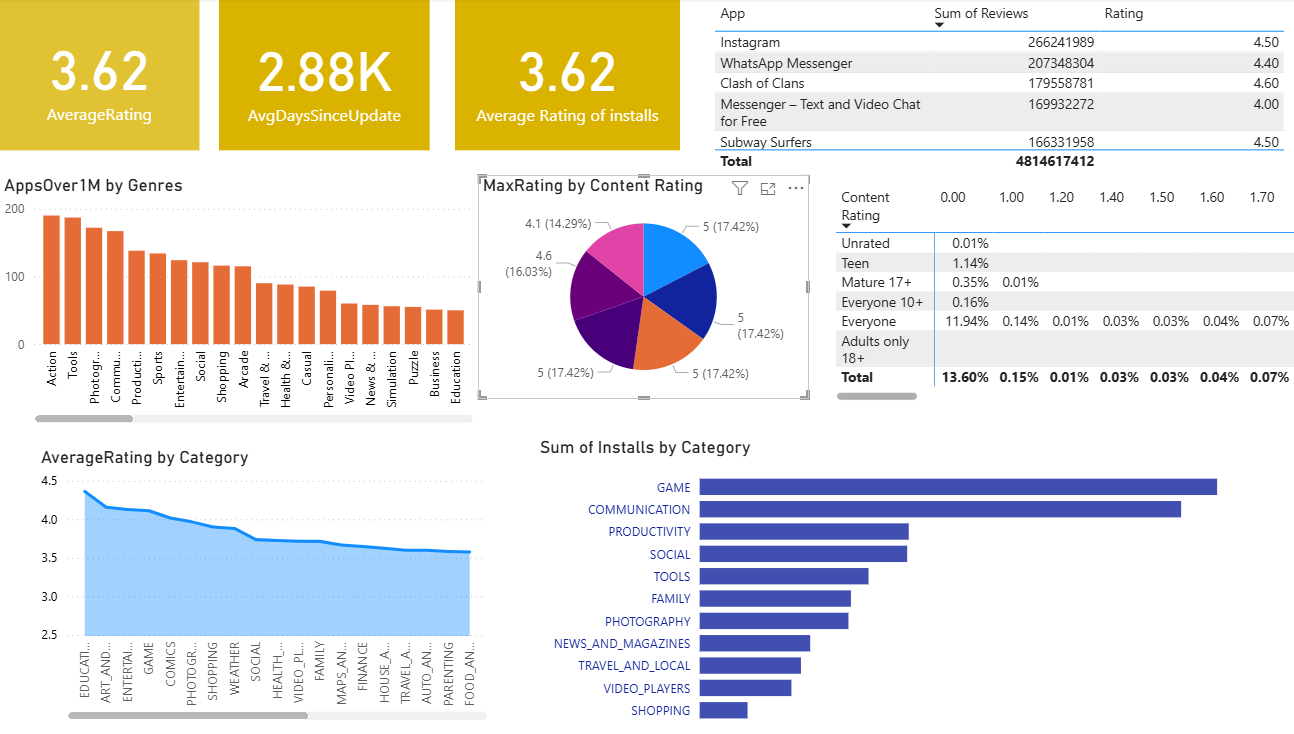

Layout of this report page (visuals, bound fields, positions):
{"tool":"powerbi","page":{"name":"intermediate level","canvas":[1280,720],"ordinal":1},"visuals":[{"type":"card","fields":{"Values":["Avg(googleplaystore.Rating)"]},"box":[445.5,1.9,219.8,146.9],"z":0},{"type":"columnChart","fields":{"Category":["googleplaystore.Category"],"Y":["googleplaystore.AverageRating"]},"box":[0,430.9,445.5,288.9],"z":1000},{"type":"card","fields":{"Values":["googleplaystore.AverageRating"]},"box":[0,0,196.5,148.8],"z":2000},{"type":"columnChart","fields":{"Category":["googleplaystore.Content Rating"],"Y":["googleplaystore.MaxRating"]},"box":[906.5,191.6,373.5,248],"z":3000},{"type":"columnChart","fields":{"Category":["googleplaystore.Genres"],"Y":["googleplaystore.AppsOver1M"]},"box":[0,173.1,482.4,247.1],"z":4000},{"type":"card","fields":{"Values":["googleplaystore.AvgDaysSinceUpdate"]},"box":[215,1.9,206.2,146.9],"z":5000},{"type":"tableEx","fields":{"Values":["googleplaystore.App","Sum(googleplaystore.Reviews)","googleplaystore.Rating"]},"box":[482.4,191.6,411.4,228.6],"z":6000},{"type":"pivotTable","fields":{"Rows":["googleplaystore.Content Rating"],"Columns":["googleplaystore.Rating"],"Values":["Min(googleplaystore.App)"]},"box":[681.8,1.9,598.2,178],"z":7000},{"type":"barChart","fields":{"Category":["googleplaystore.Category"],"Y":["Sum(googleplaystore.Installs)"]},"box":[524.3,447.4,755.7,272.3],"z":8000}]}

Visuals, with their boxes in screenshot pixels (x1, y1, x2, y2), scaled from the page's 1280x720 canvas onto the 1294x734 screenshot:
card - Avg(googleplaystore.Rating): (x1=450, y1=2, x2=673, y2=152)
columnChart - googleplaystore.Category x googleplaystore.AverageRating: (x1=0, y1=439, x2=450, y2=733)
card - googleplaystore.AverageRating: (x1=0, y1=0, x2=199, y2=152)
columnChart - googleplaystore.Content Rating x googleplaystore.MaxRating: (x1=916, y1=195, x2=1293, y2=448)
columnChart - googleplaystore.Genres x googleplaystore.AppsOver1M: (x1=0, y1=176, x2=488, y2=428)
card - googleplaystore.AvgDaysSinceUpdate: (x1=217, y1=2, x2=426, y2=152)
tableEx - googleplaystore.App x Sum(googleplaystore.Reviews): (x1=488, y1=195, x2=904, y2=428)
pivotTable - googleplaystore.Content Rating x googleplaystore.Rating: (x1=689, y1=2, x2=1293, y2=183)
barChart - googleplaystore.Category x Sum(googleplaystore.Installs): (x1=530, y1=456, x2=1293, y2=733)
